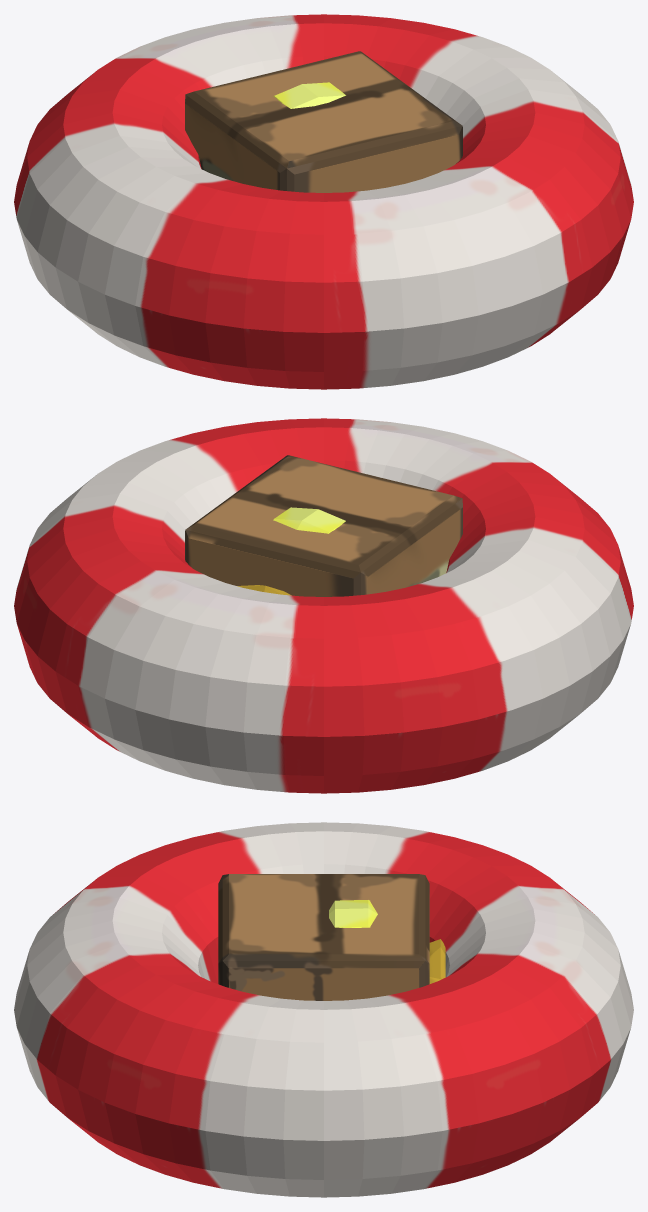
3 renders of one model, top to bottom at view 1: azimuth 30°, elevation 25°; view 2: azimuth 150°, elevation 25°; view 3: azimuth 270°, elevation 25°, orthographic.
Parts seen in each view (by area): view 1: Torus.001, Cube, Duck; view 2: Torus.001, Cube, Duck; view 3: Torus.001, Cube, Duck.
Part boxes in pixels (x1,y1,x2,y2): Torus.001: (14, 14, 633, 389); Cube: (185, 51, 462, 192); Duck: (273, 82, 345, 108); Torus.001: (14, 418, 633, 793); Cube: (185, 455, 462, 596); Duck: (237, 507, 345, 595); Torus.001: (14, 822, 633, 1197); Cube: (218, 874, 429, 1000); Duck: (329, 900, 445, 983).
Size of the model in its own units: 264 by 92.86 by 264.
3 materials, 3 textured.
